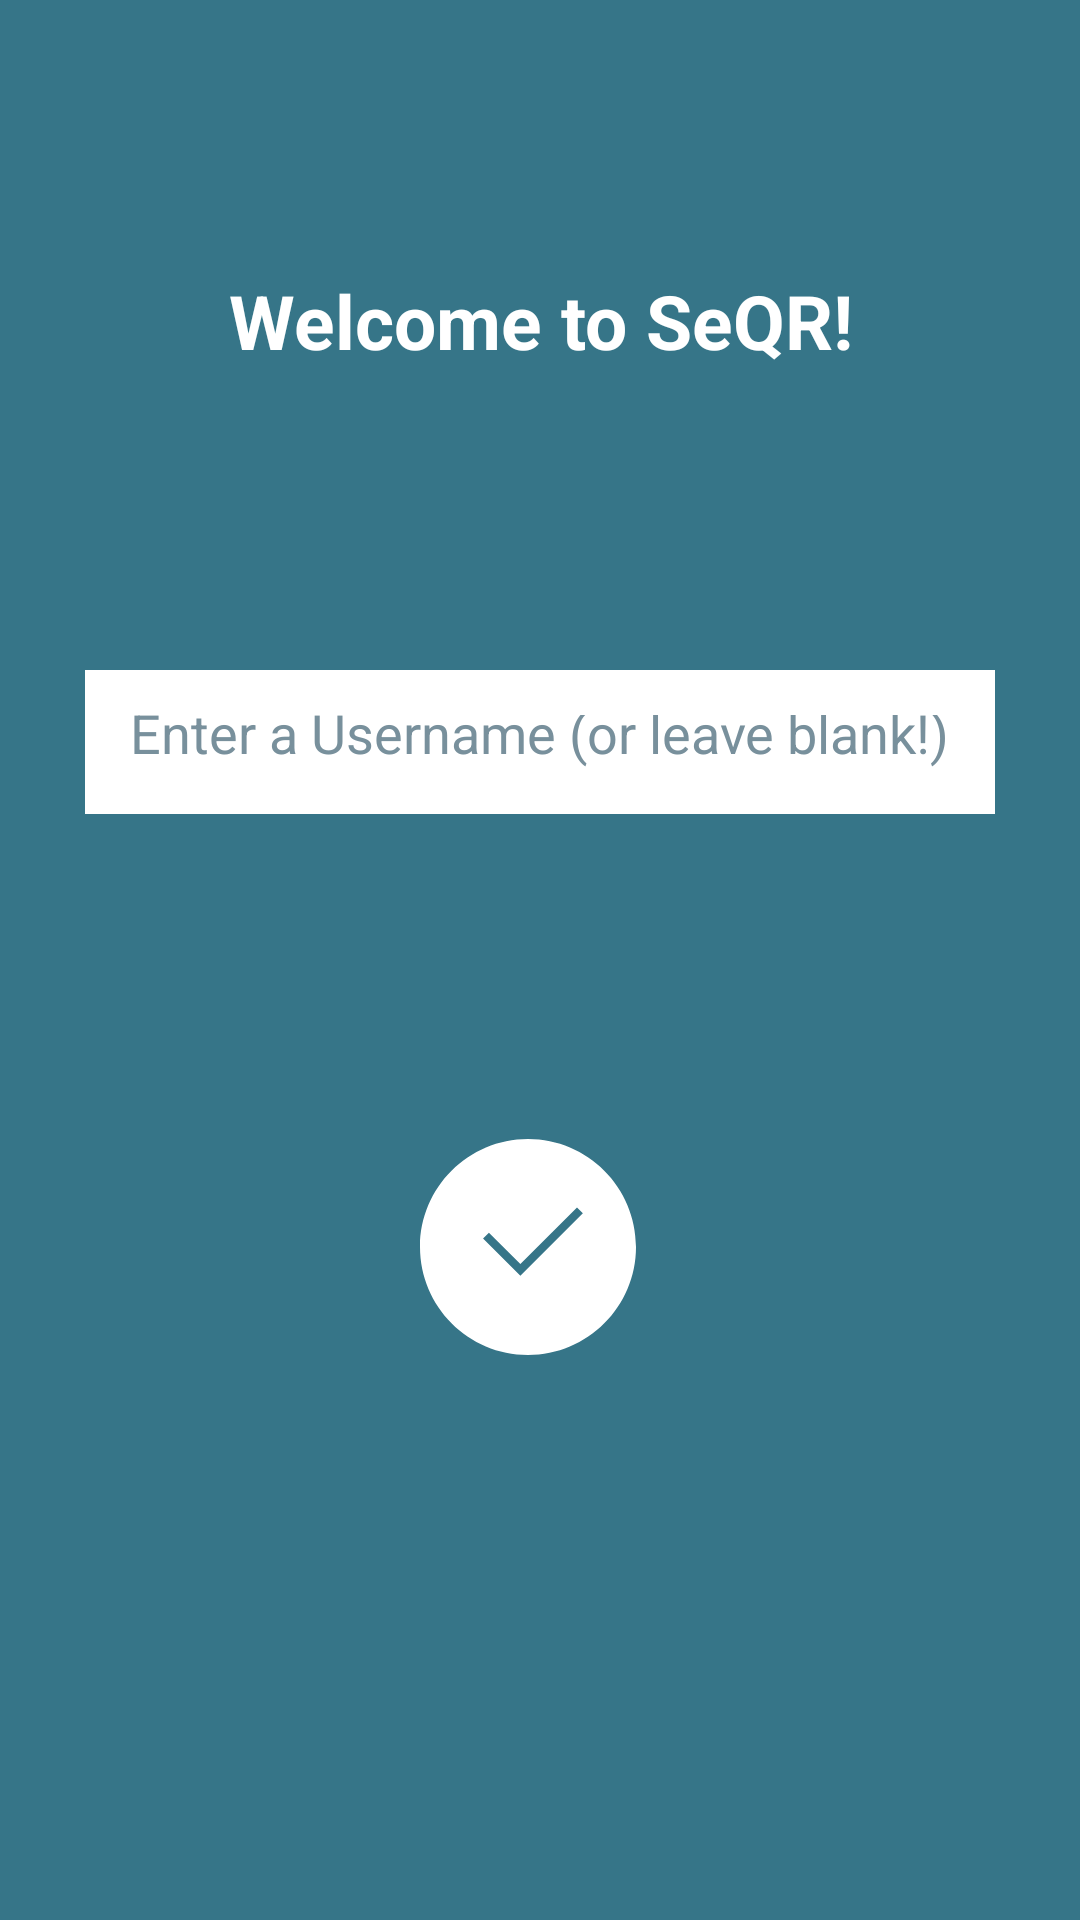

Point at icon controls on the screen. Image size 1080*1920, points as point (x, y).
Create profile confirmation: point (528, 1247)
